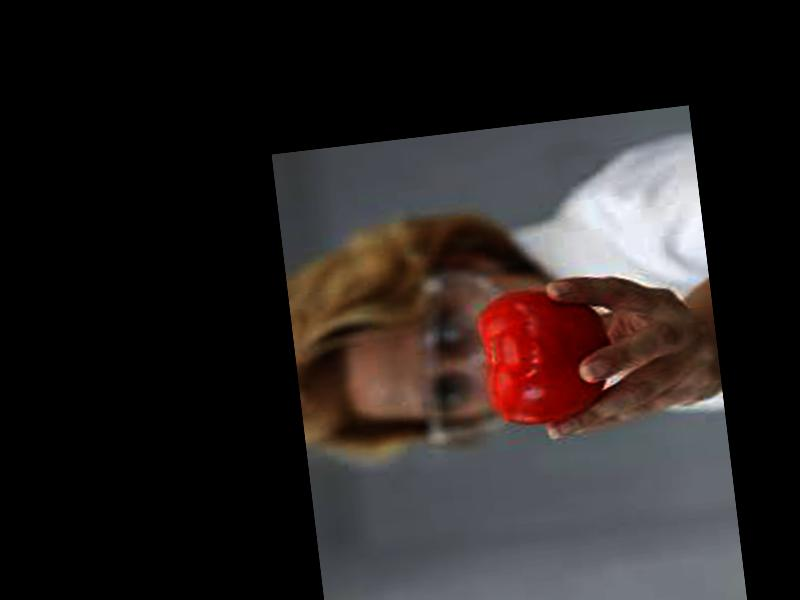Tomato: (477, 279, 614, 428)
